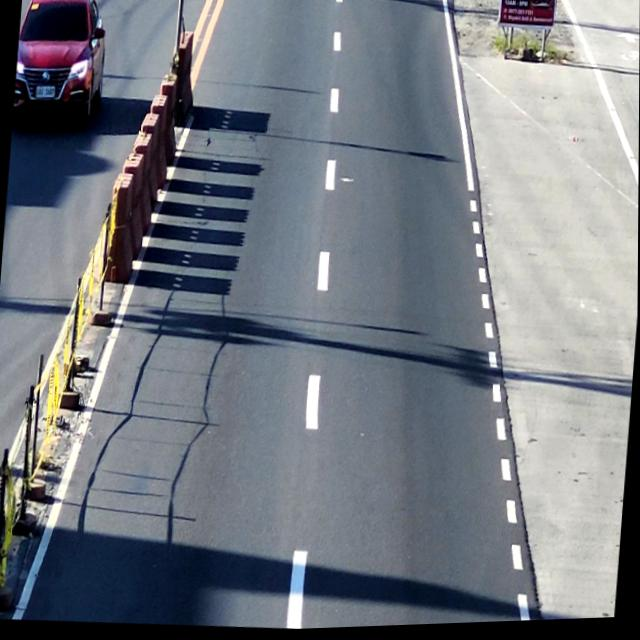License-Plate: (34, 84, 56, 98)
